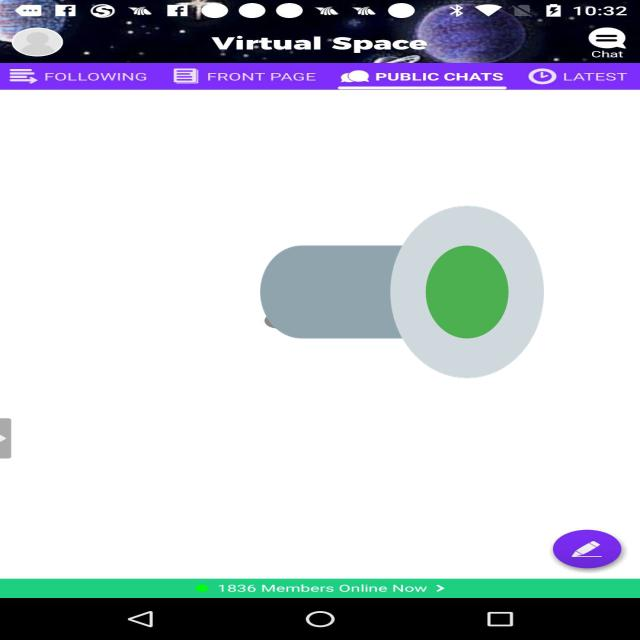social proof: (260, 133, 544, 451)
